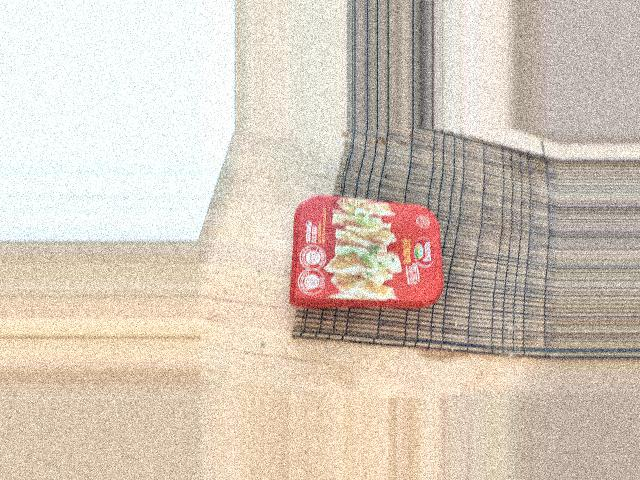cheese: (278, 207, 444, 314)
